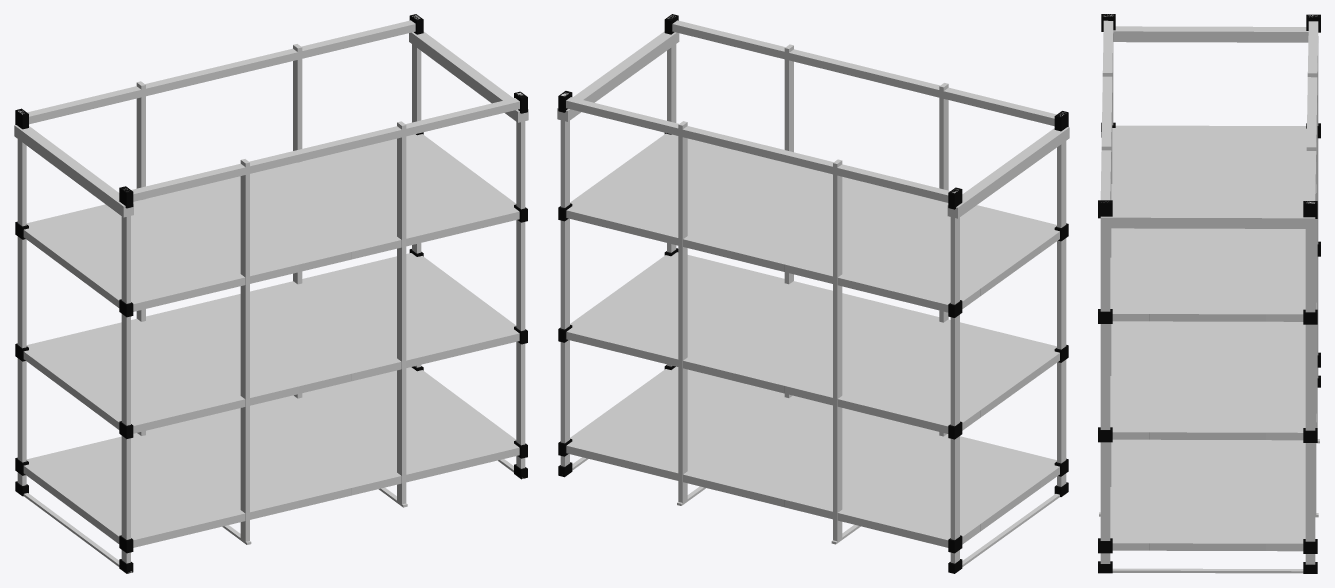
The model's file is zatla-triple-room.glb.
The picture shows the model from 3 angles, left to right: view 1: azimuth 30°, elevation 25°; view 2: azimuth 150°, elevation 25°; view 3: azimuth 270°, elevation 25°; orthographic projection. The views are drawn at different scales.
Visible parts, largest first — view 1: model; view 2: model; view 3: model.
Boxes of the visible parts, x1,y1,x2,y2 form: model: (14,14,528,573); model: (557,14,1069,573); model: (1098,14,1320,573).
Bounding box in the file's own units: 0.5564 × 0.5 × 0.2729.
Materials: 1 (1 with a texture image).
